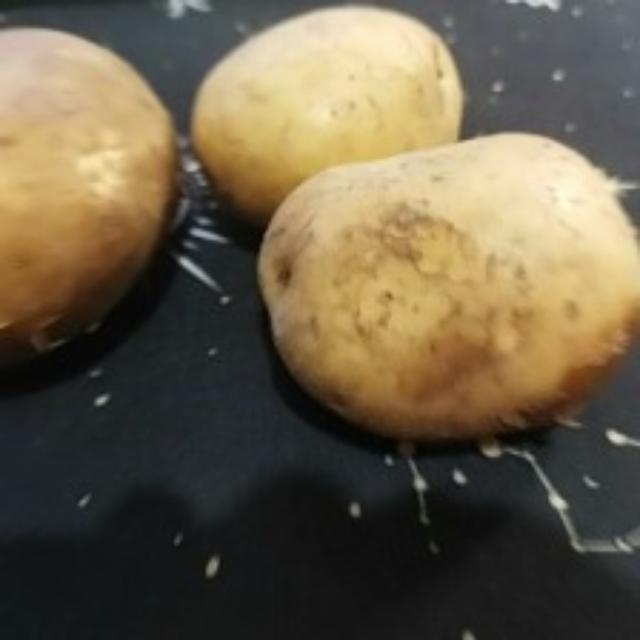Damaged potato: (249, 132, 636, 458)
Potato: (0, 23, 184, 397), (182, 8, 466, 230)
